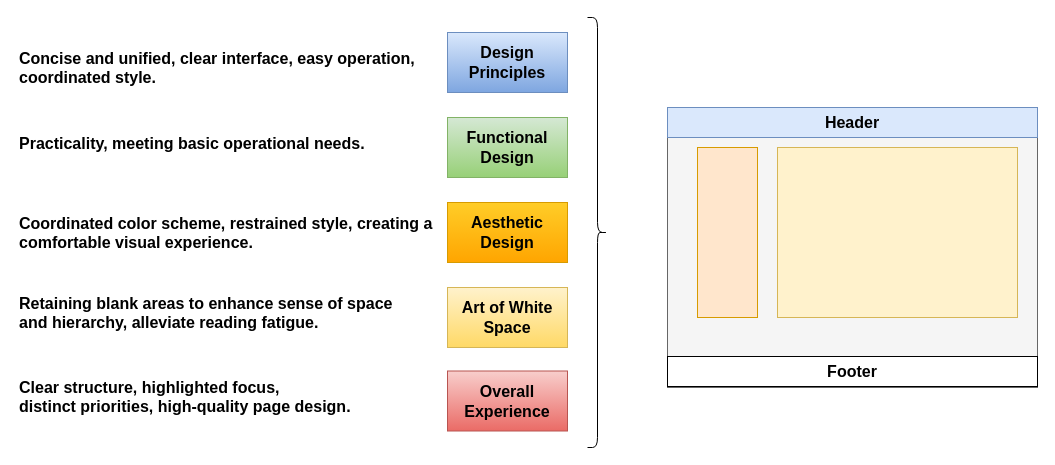
Image size: 1055x465. Some labels were removed from this diagram. The centre of each missing label's shape, as x and y in pixels:
Main Content Area: the point at 897,232
Sidebar: the point at 727,232
